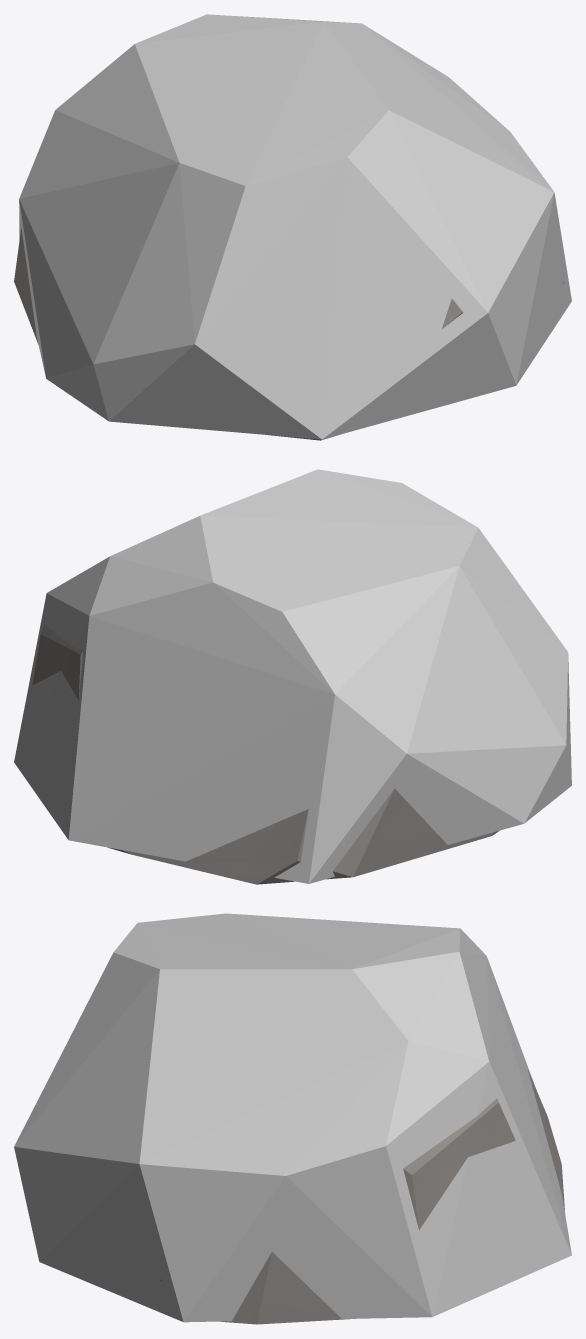
The model's file is SM_Rock_08.fbx.
3 views of the same model, one above another, from view 1: azimuth 30°, elevation 25°; view 2: azimuth 150°, elevation 25°; view 3: azimuth 270°, elevation 25° (orthographic). The views are drawn at different scales.
Visible parts, largest first — view 1: SM_Rock_08_ConvexHulls, SM_Rock_08; view 2: SM_Rock_08_ConvexHulls, SM_Rock_08; view 3: SM_Rock_08_ConvexHulls, SM_Rock_08.
Boxes of the visible parts, x1,y1,x2,y2 form: SM_Rock_08_ConvexHulls: (19, 14, 571, 439); SM_Rock_08: (14, 228, 563, 440); SM_Rock_08_ConvexHulls: (14, 469, 571, 883); SM_Rock_08: (32, 625, 499, 884); SM_Rock_08_ConvexHulls: (14, 913, 571, 1322); SM_Rock_08: (159, 1069, 565, 1324).
Bounding box in the file's own units: 67.51 × 66.72 × 36.47.
